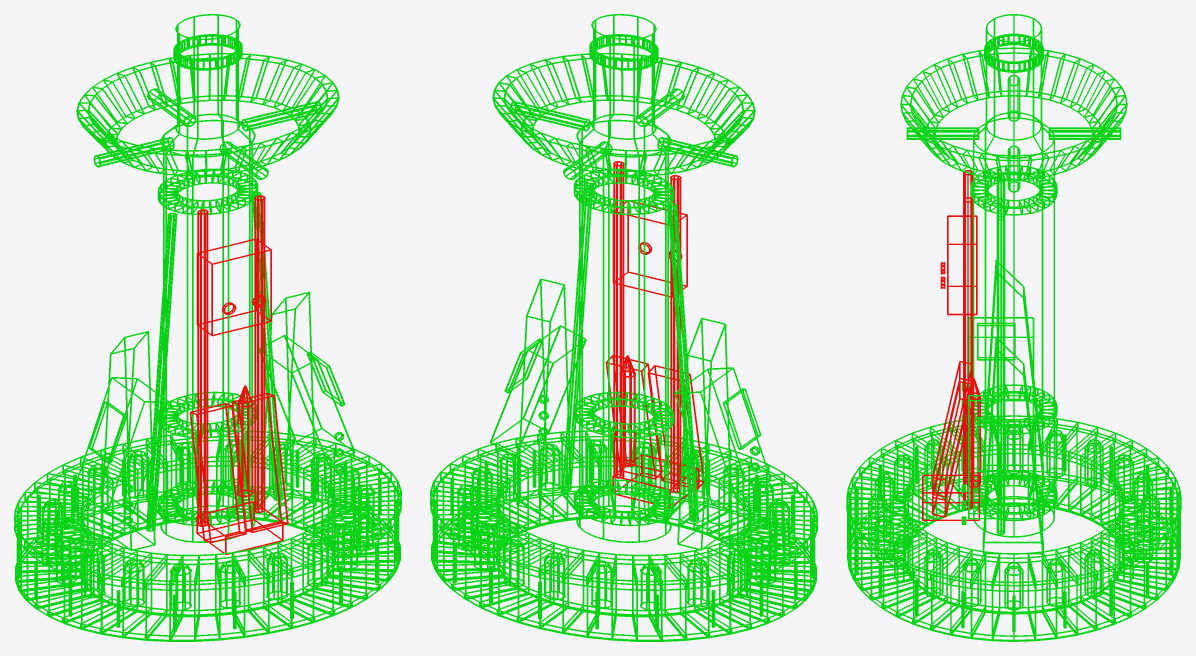
Rendered from missile-bay-extension-highlight-missile-loading-assembly.glb.
The picture shows the model from 3 angles, left to right: view 1: azimuth 30°, elevation 25°; view 2: azimuth 150°, elevation 25°; view 3: azimuth 270°, elevation 25°; orthographic projection.
Visible parts, largest first — view 1: revolving-storage-rack technical wire, chassis technical wire, missile-loading-assembly technical wire, targeting-control technical wire; view 2: revolving-storage-rack technical wire, chassis technical wire, missile-loading-assembly technical wire, targeting-control technical wire; view 3: revolving-storage-rack technical wire, chassis technical wire, missile-loading-assembly technical wire, targeting-control technical wire.
Boxes of the visible parts, left/top/right/bottom form: revolving-storage-rack technical wire: left=14, top=430, right=401, bottom=641; chassis technical wire: left=76, top=14, right=339, bottom=551; missile-loading-assembly technical wire: left=189, top=195, right=288, bottom=554; targeting-control technical wire: left=73, top=335, right=355, bottom=525; revolving-storage-rack technical wire: left=430, top=430, right=817, bottom=641; chassis technical wire: left=492, top=14, right=755, bottom=550; missile-loading-assembly technical wire: left=605, top=161, right=703, bottom=508; targeting-control technical wire: left=489, top=325, right=771, bottom=504; revolving-storage-rack technical wire: left=846, top=415, right=1181, bottom=641; chassis technical wire: left=900, top=14, right=1127, bottom=554; missile-loading-assembly technical wire: left=922, top=170, right=980, bottom=520; targeting-control technical wire: left=961, top=317, right=1034, bottom=524.
Bounding box in the file's own units: 2.45 × 3.64 × 2.08.
